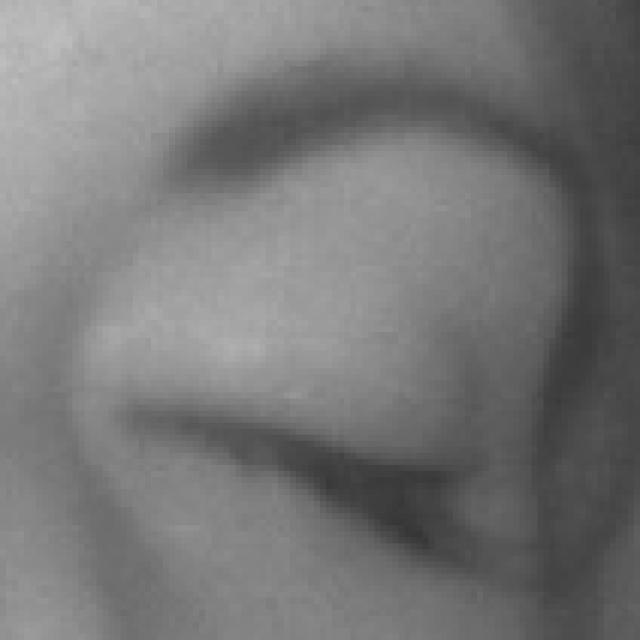close: (0, 57, 640, 640)
